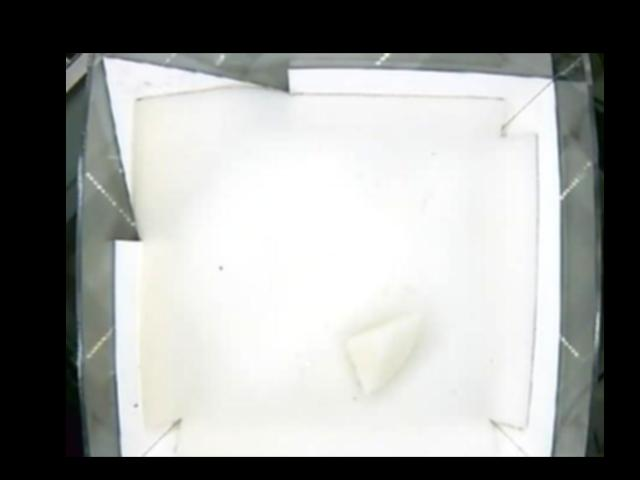Mooli: (343, 309, 425, 392)
